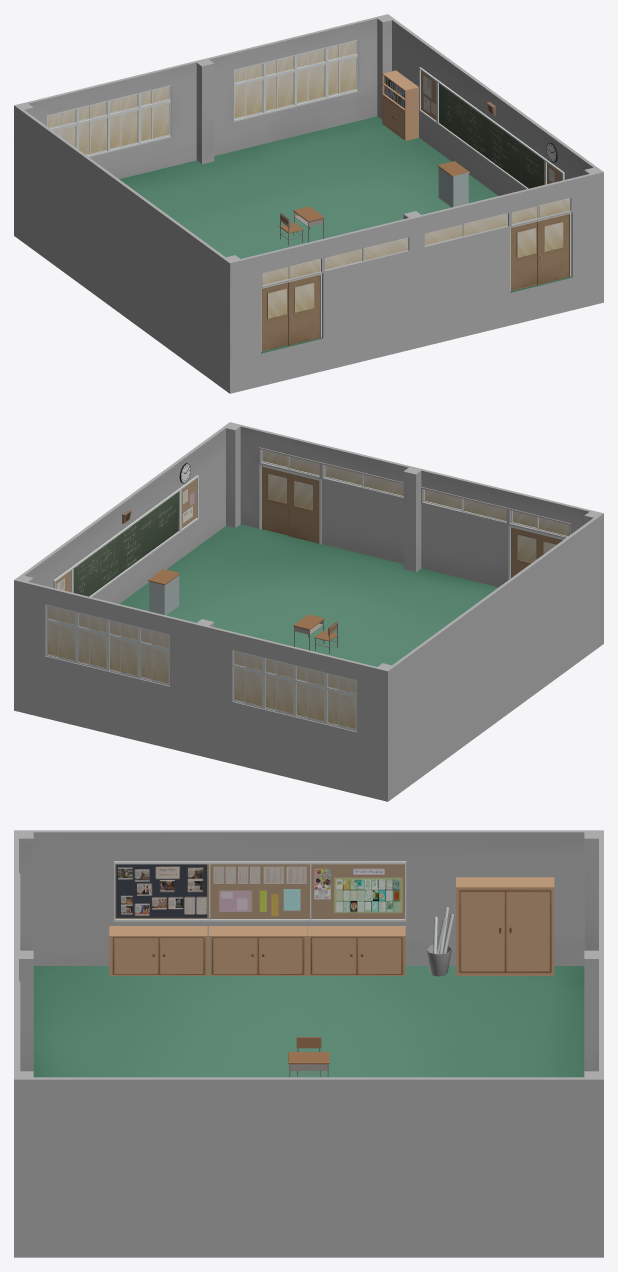
File: classroom01.dae
3 views of the same model, one above another, from view 1: azimuth 30°, elevation 25°; view 2: azimuth 150°, elevation 25°; view 3: azimuth 270°, elevation 25° (orthographic). The views are drawn at different scales.
Visible parts, largest first — view 1: wall_all, floor, cupboard02, T_table01; view 2: wall_all, floor, T_table01; view 3: wall_all, floor, cupboard01, cupboard03, cupboard04, cupboard05, basket01, desk01.
Boxes of the visible parts, x1,y1,x2,y2 form: wall_all: [14, 14, 603, 360]; floor: [14, 116, 603, 393]; cupboard02: [382, 70, 418, 140]; T_table01: [437, 161, 469, 207]; wall_all: [14, 422, 603, 768]; floor: [14, 524, 603, 801]; T_table01: [148, 569, 180, 615]; wall_all: [14, 830, 603, 1213]; floor: [14, 966, 603, 1257]; cupboard01: [456, 877, 554, 975]; cupboard03: [307, 926, 405, 975]; cupboard04: [208, 926, 306, 975]; cupboard05: [109, 926, 207, 975]; basket01: [426, 906, 454, 976]; desk01: [288, 1052, 329, 1077].
Bounding box in the file's own units: 12 × 4 × 12.
